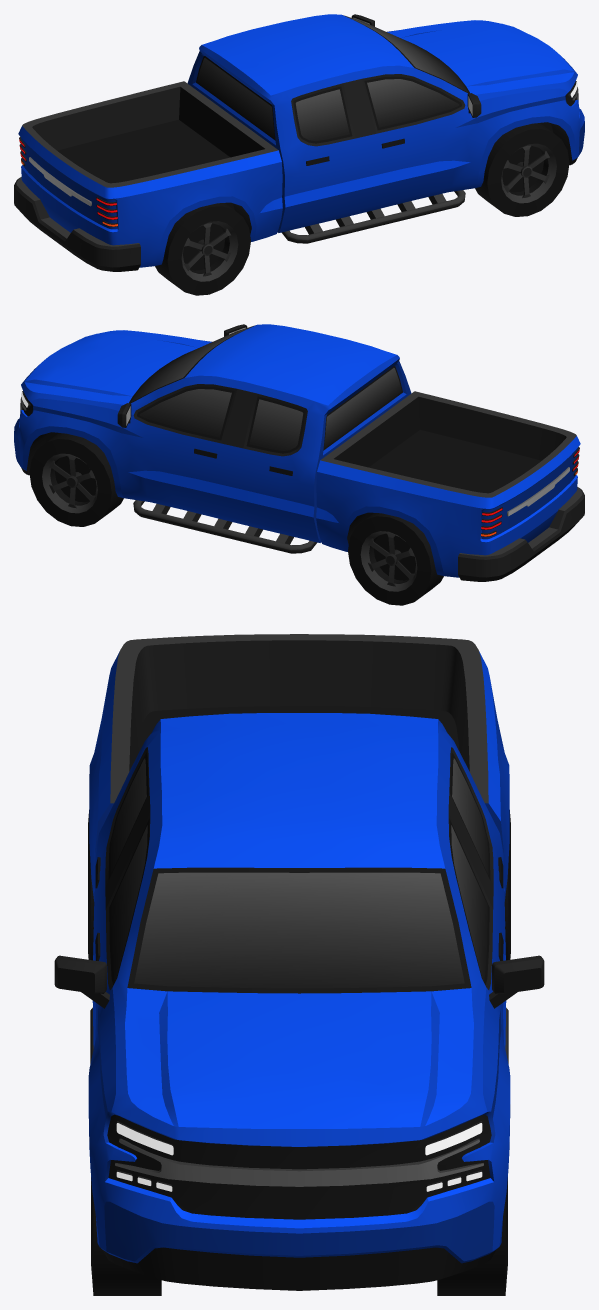
File: Car_010.glb
3 renders of one model, top to bottom at view 1: azimuth 30°, elevation 25°; view 2: azimuth 150°, elevation 25°; view 3: azimuth 270°, elevation 25°, orthographic. The views are drawn at different scales.
Parts seen in each view (by area): view 1: Car_010, wheel_3_Car_010_Wheel_2R, wheel_1_Car_010_Wheel_1R; view 2: Car_010, wheel_2_Car_010_Wheel_2L, wheel_0_Car_010_Wheel_1L; view 3: Car_010, wheel_0_Car_010_Wheel_1L, wheel_1_Car_010_Wheel_1R.
Part boxes in pixels (left/top/right/bottom): Car_010: left=14, top=14, right=584, bottom=271; wheel_3_Car_010_Wheel_2R: left=155, top=203, right=250, bottom=295; wheel_1_Car_010_Wheel_1R: left=475, top=123, right=569, bottom=216; Car_010: left=14, top=324, right=584, bottom=581; wheel_2_Car_010_Wheel_2L: left=348, top=513, right=443, bottom=605; wheel_0_Car_010_Wheel_1L: left=29, top=433, right=123, bottom=526; Car_010: left=54, top=634, right=544, bottom=1290; wheel_0_Car_010_Wheel_1L: left=437, top=1177, right=507, bottom=1295; wheel_1_Car_010_Wheel_1R: left=91, top=1177, right=161, bottom=1295.
Size of the model in its own units: 5.8 by 1.88 by 2.41.
Materials: 2 (2 with a texture image).
